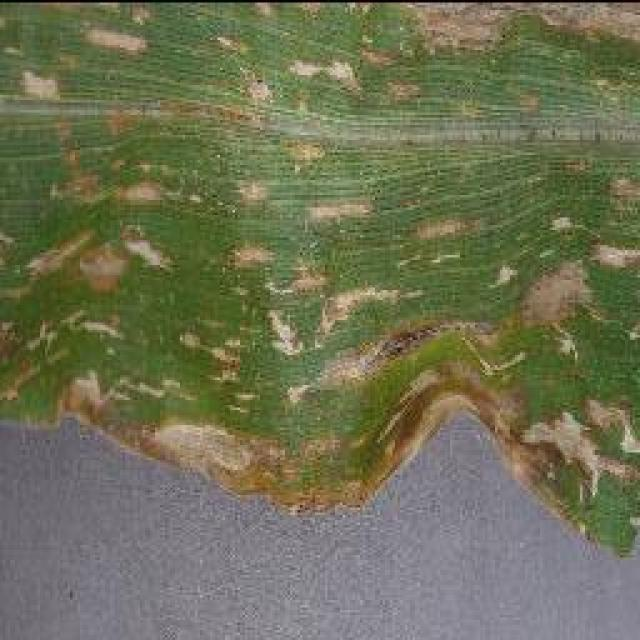Corn_Grey_Leaf_Spot: (2, 0, 632, 415)
